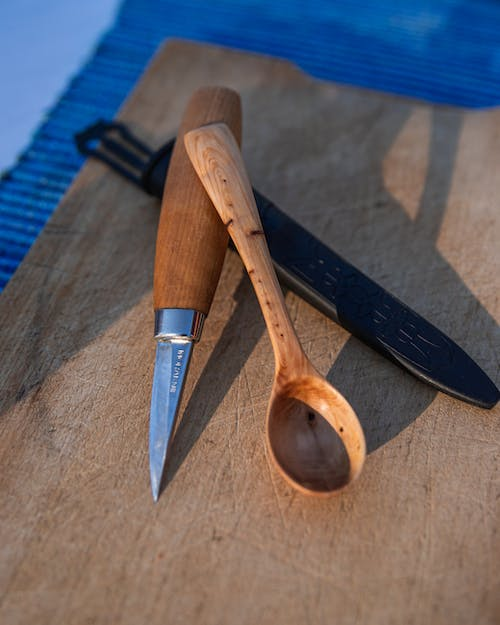knife: (145, 83, 243, 507)
